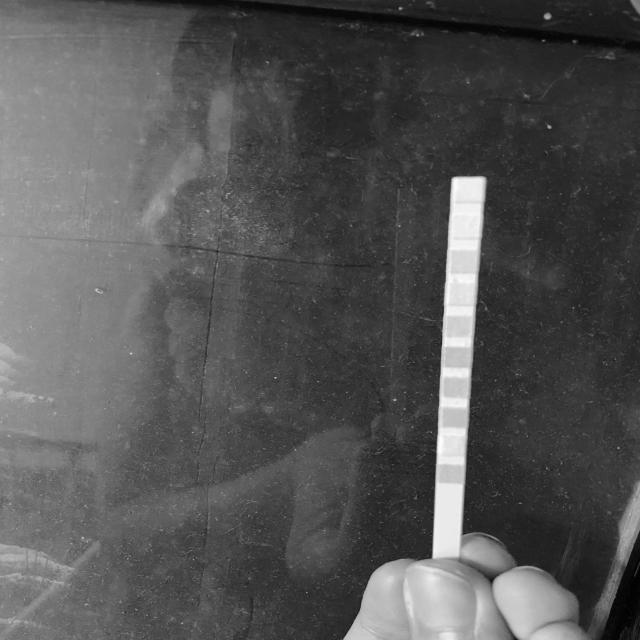Bilirubin: (439, 437, 465, 455)
Blood: (444, 348, 470, 366)
Glucose: (437, 465, 464, 482)
Ketone: (441, 410, 466, 427)
Leukocytes: (454, 179, 482, 202)
Nitrite: (452, 217, 480, 238)
Protein: (448, 285, 474, 304)
SpGravity: (443, 378, 469, 396)
Urobilinogen: (450, 252, 477, 272)
background: (0, 0, 640, 640)
pH: (447, 317, 472, 336)
strip: (433, 178, 486, 555)
